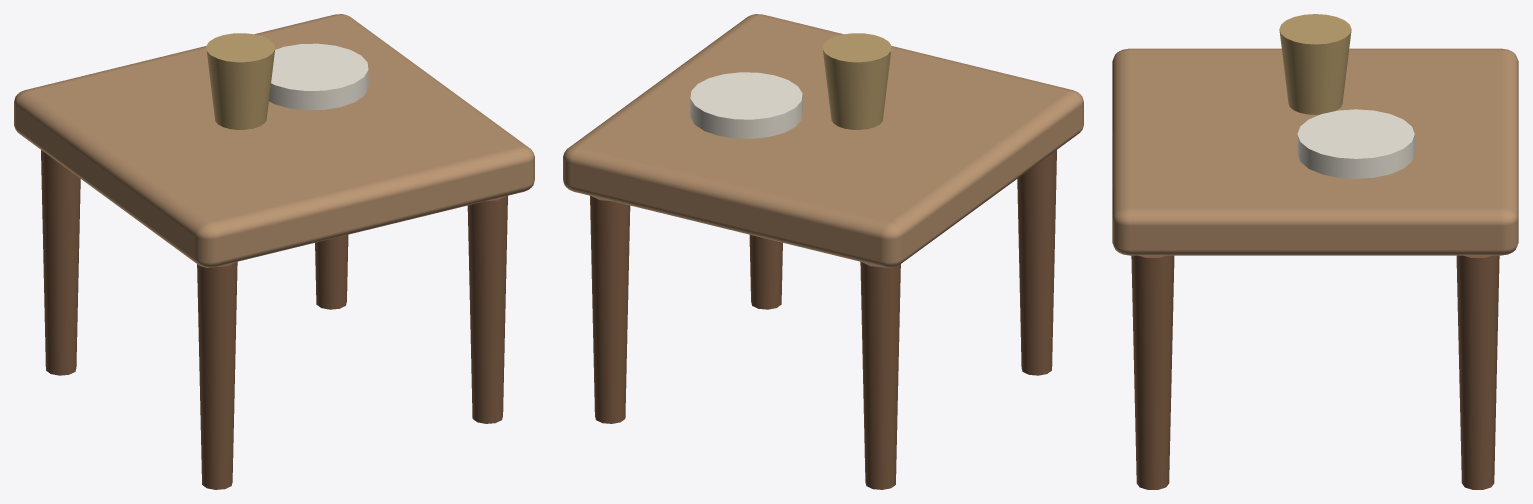
Rendered from table-4-5.glb.
3 views of the same model, side by side, from view 1: azimuth 30°, elevation 25°; view 2: azimuth 150°, elevation 25°; view 3: azimuth 270°, elevation 25° (orthographic). The views are drawn at different scales.
Visible parts, largest first — view 1: upholstery, part (×3); view 2: upholstery, part (×3); view 3: upholstery, part (×3).
Boxes of the visible parts, x1,y1,x2,y2 form: upholstery: (14,14,534,267); part (×3): (41,33,507,489); upholstery: (563,14,1083,267); part (×3): (590,33,1056,489); upholstery: (1112,48,1518,255); part (×3): (1131,14,1499,489).
Size of the model in its own units: 1 by 1 by 1.
